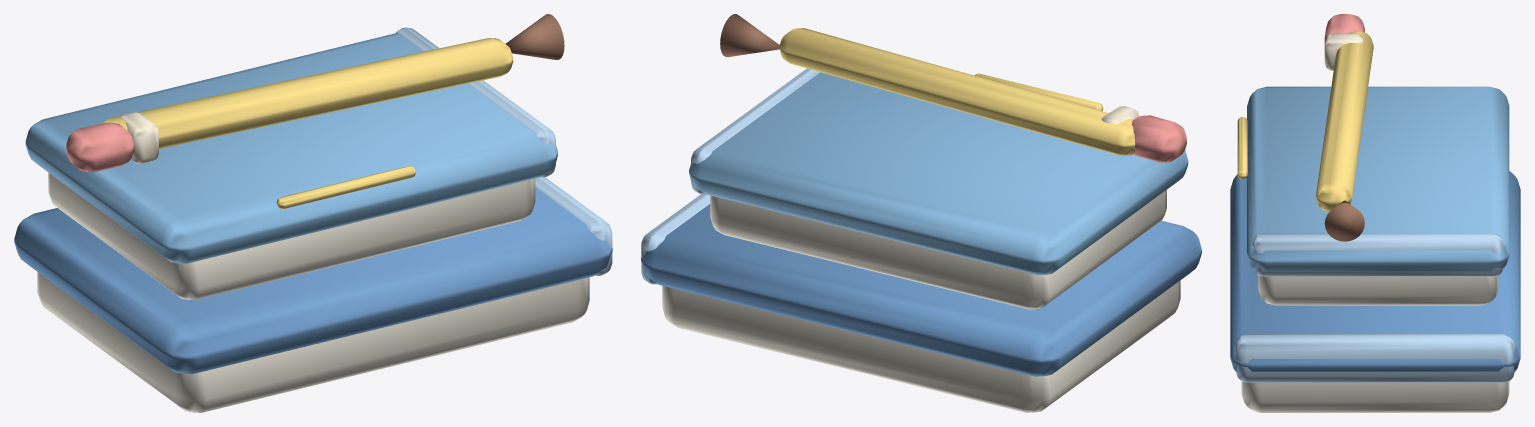
Rendered from school.glb.
3 renders of one model, left to right at view 1: azimuth 30°, elevation 25°; view 2: azimuth 150°, elevation 25°; view 3: azimuth 270°, elevation 25°, orthographic. The views are drawn at different scales.
Visible parts, largest first — view 1: Upper blue cover, Lower blue cover, Lower book pages, Upper book pages, Pencil barrel, Pencil eraser, Upper cover mark, Upper book spine, Pencil graphite tip, Lower book spine, Pencil ferrule; view 2: Upper blue cover, Lower blue cover, Lower book pages, Upper book pages, Pencil barrel, Pencil eraser, Upper book spine, Pencil graphite tip, Lower book spine, Upper cover mark; view 3: Upper blue cover, Lower blue cover, Lower book spine, Lower book pages, Upper book pages, Pencil barrel, Upper book spine, Pencil graphite tip, Pencil ferrule, Pencil eraser, Upper cover mark.
Part boxes in pixels (x1,y1,x2,y2): Upper blue cover: [25, 33, 557, 263]; Lower blue cover: [14, 187, 612, 374]; Lower book pages: [37, 272, 589, 412]; Upper book pages: [48, 172, 535, 300]; Pencil barrel: [102, 38, 513, 148]; Pencil eraser: [66, 122, 133, 172]; Upper cover mark: [276, 166, 415, 208]; Upper book spine: [395, 27, 555, 177]; Pencil graphite tip: [505, 14, 564, 59]; Lower book spine: [535, 177, 612, 275]; Pencil ferrule: [121, 112, 158, 163]; Upper blue cover: [689, 72, 1188, 275]; Lower blue cover: [641, 204, 1201, 376]; Lower book pages: [662, 280, 1180, 412]; Upper book pages: [710, 190, 1166, 309]; Pencil barrel: [779, 28, 1135, 155]; Pencil eraser: [1131, 115, 1186, 162]; Upper book spine: [691, 68, 819, 194]; Pencil graphite tip: [720, 14, 779, 57]; Lower book spine: [641, 194, 710, 284]; Upper cover mark: [974, 73, 1103, 110]; Upper blue cover: [1247, 86, 1509, 271]; Lower blue cover: [1230, 171, 1520, 371]; Lower book spine: [1236, 334, 1514, 382]; Lower book pages: [1241, 381, 1509, 412]; Upper book pages: [1258, 275, 1498, 305]; Pencil barrel: [1316, 31, 1373, 211]; Upper book spine: [1252, 233, 1503, 276]; Pencil graphite tip: [1324, 200, 1364, 241]; Pencil ferrule: [1324, 33, 1363, 70]; Pencil eraser: [1324, 14, 1364, 44]; Upper cover mark: [1237, 117, 1247, 179].
Bounding box in the file's own units: 0.8454 × 0.436 × 0.52.
